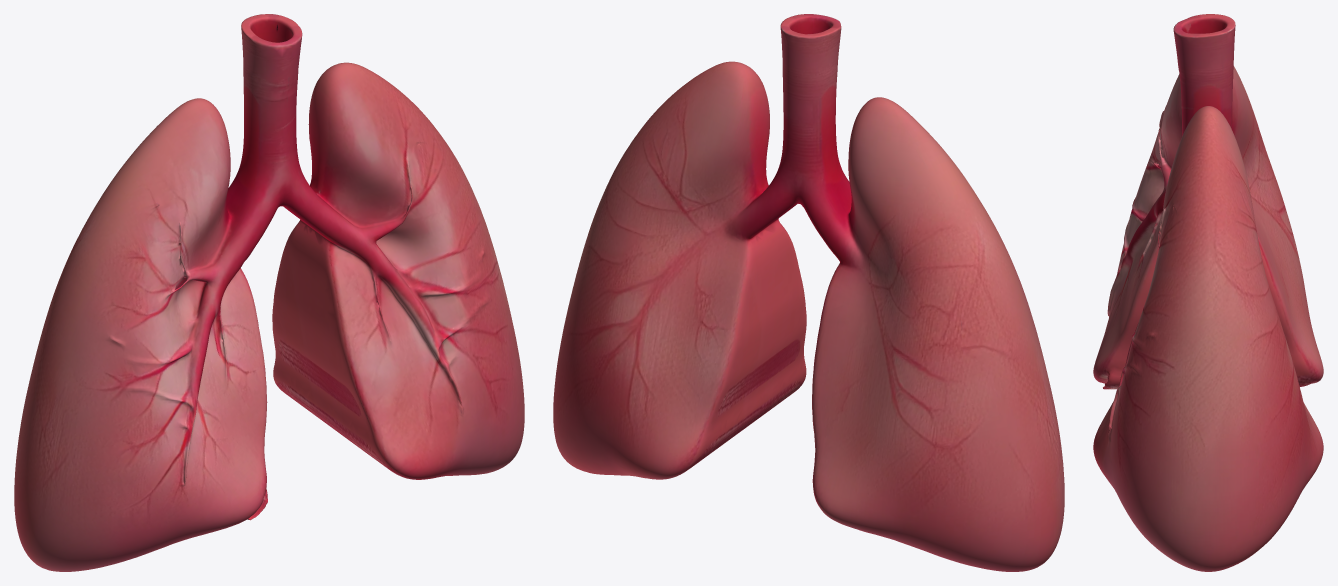
Rendered from cat_lungs.glb.
3 renders of one model, left to right at view 1: azimuth 30°, elevation 25°; view 2: azimuth 150°, elevation 25°; view 3: azimuth 270°, elevation 25°, orthographic. The views are drawn at different scales.
Visible parts, largest first — view 1: model; view 2: model; view 3: model.
Part boxes in pixels (x1,y1,x2,y2): model: (14, 14, 524, 571); model: (553, 14, 1064, 571); model: (1093, 14, 1323, 571).
Bounding box in the file's own units: 1.9 × 1.81 × 0.8448.
1 material, 1 textured.
